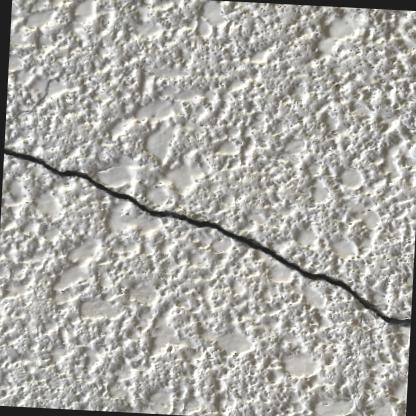crack: (5, 146, 408, 327)
